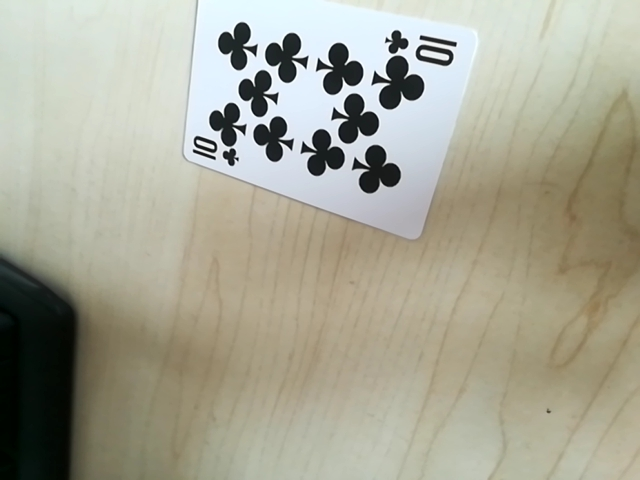mh 10: (386, 24, 463, 63), (189, 136, 241, 171)
